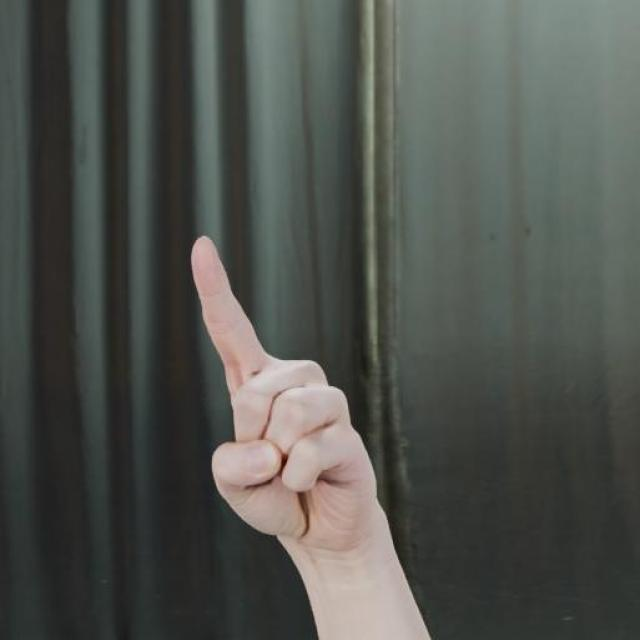Z: (142, 185, 449, 609)
